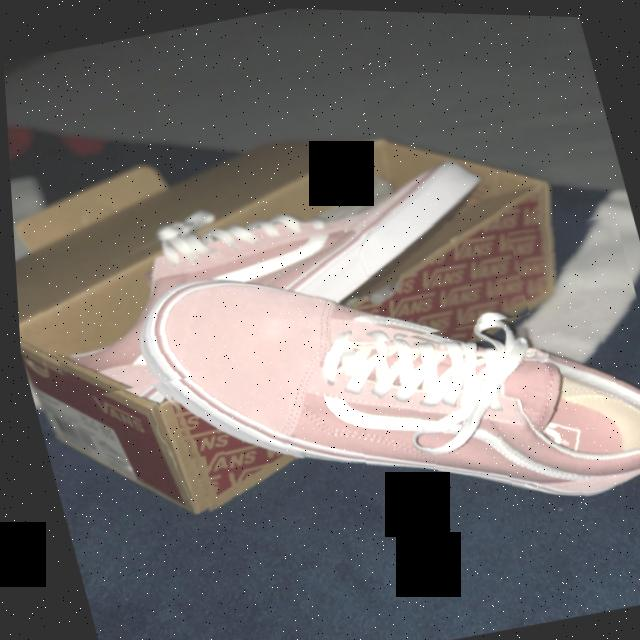shoe: (129, 194, 640, 595), (9, 131, 530, 411)
